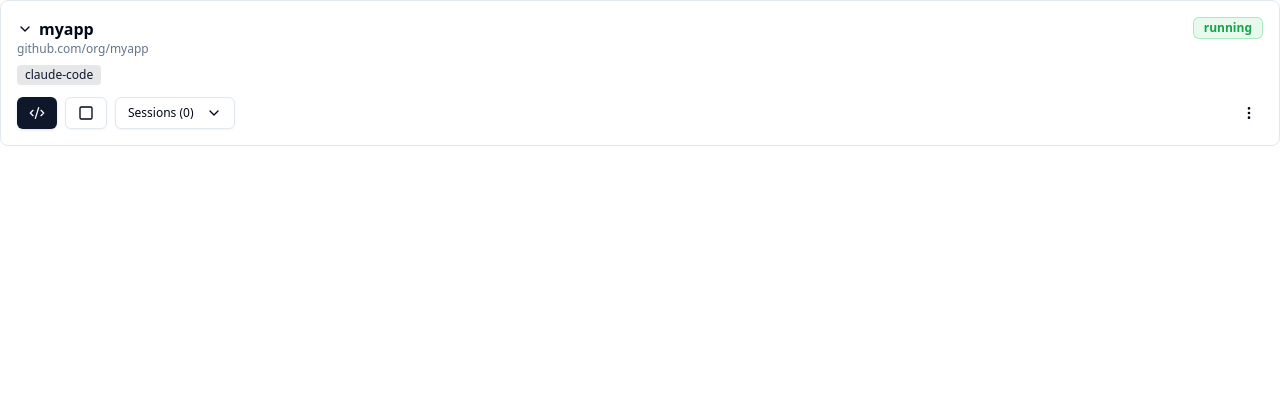
WorkspaceCard › ne propose pas Clé SSH quand spec.ssh_key=false
Click the button named "actions". click: (1249, 113)
box: [1235,99,1263,127]
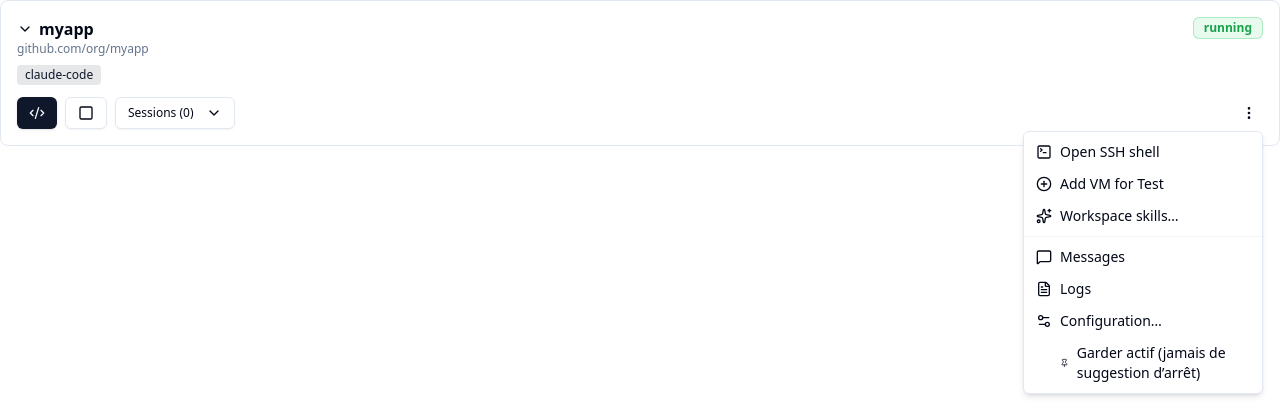
Expected: the menu item "Add VM for Test" is shown, [1036,174,1164,193]
